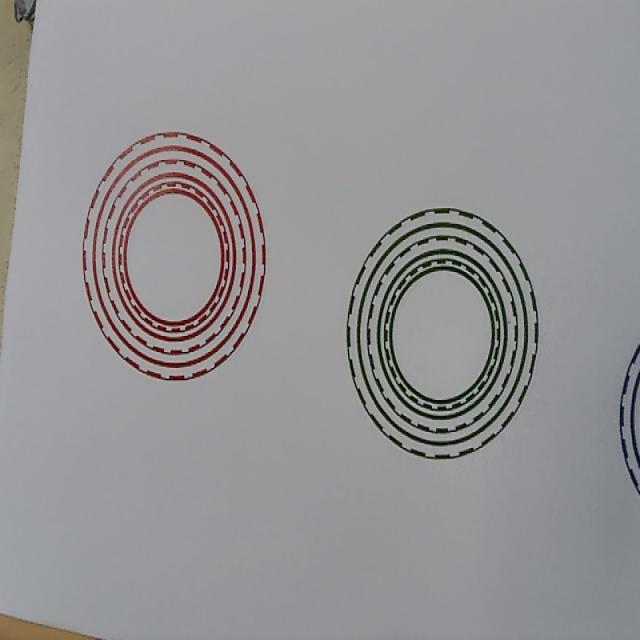g: (346, 207, 539, 460)
red-green-blue: (82, 130, 265, 384)
